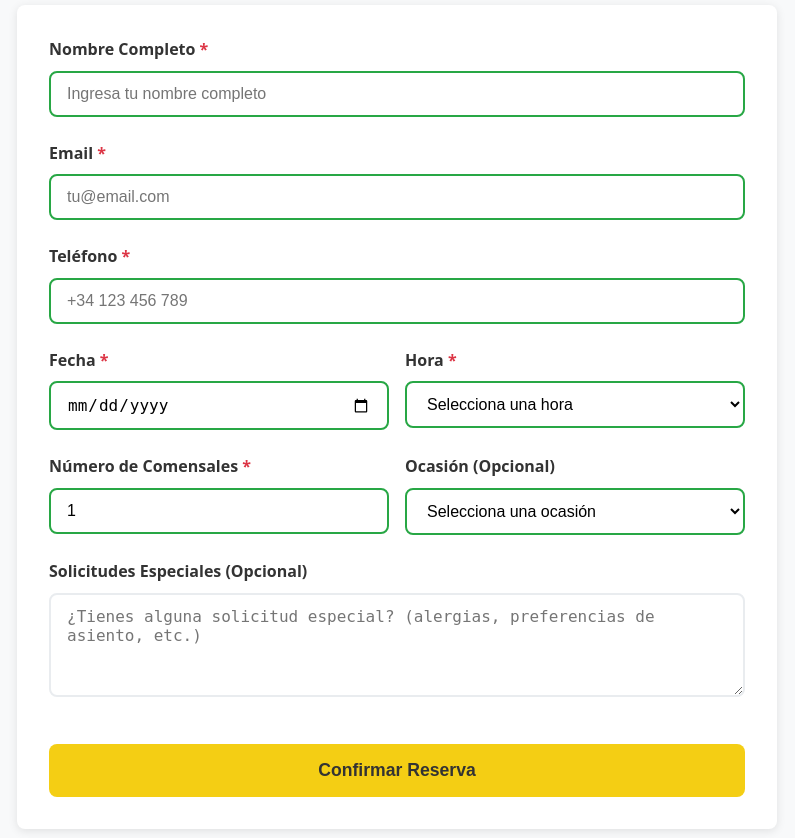
BookingForm › clears error when user starts typing
(page scrolled)
# Trigger validation error
Click the button "Confirmar Reserva" at (397, 771), box [49, 744, 745, 797]
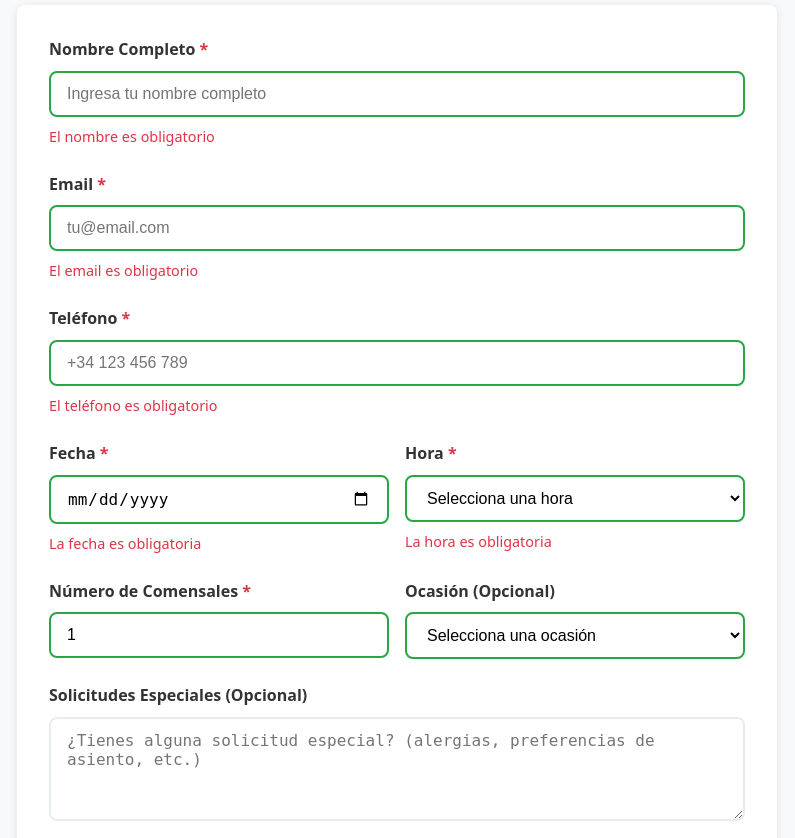
Result: the text "El nombre es obligatorio" is shown at [49, 127, 215, 146]
# Start typing to clear error
Type "Juan" into the field labelled "Nombre Completo" at (397, 94), box [49, 71, 745, 117]
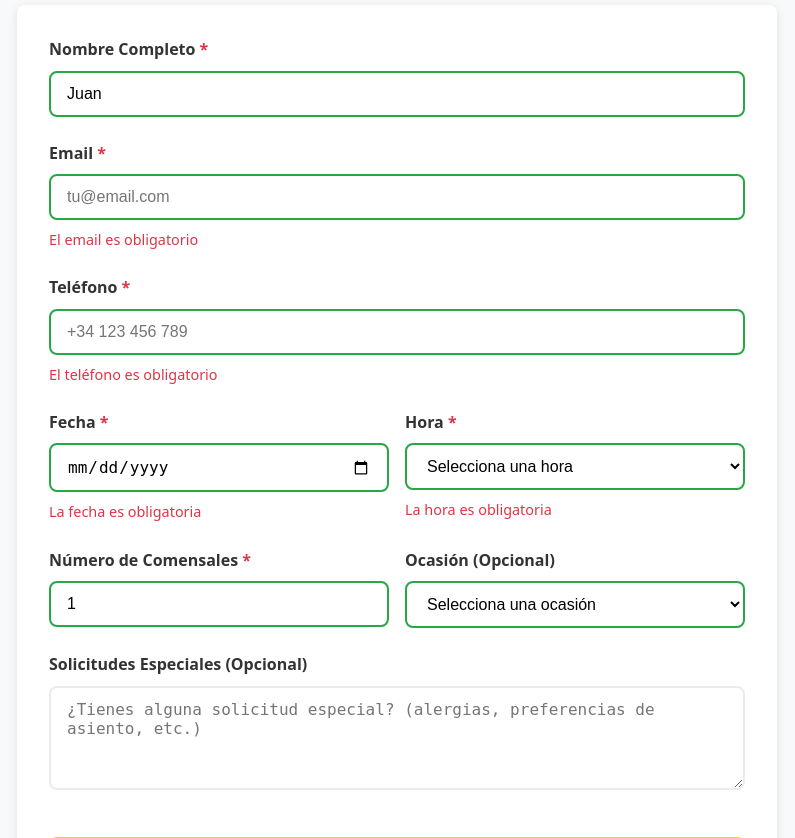
Result: the text "El nombre es obligatorio" is gone
